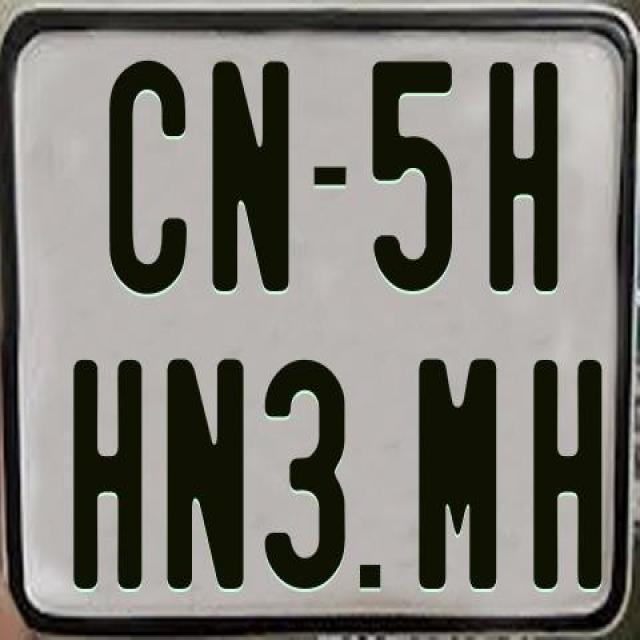license-plate: (25, 9, 630, 635)
